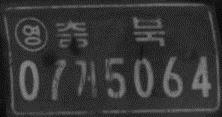0: (17, 58, 40, 102), (132, 56, 154, 99)
4: (189, 56, 211, 98)
5: (103, 57, 126, 99)
6: (161, 54, 184, 98)
7: (45, 56, 67, 101)
거: (72, 58, 97, 98)
영: (13, 16, 48, 53)
충북_D: (54, 16, 165, 49)
